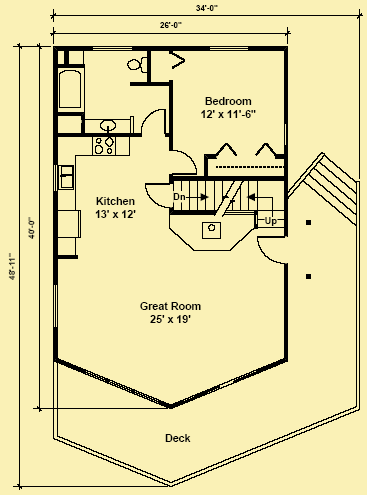door: (255, 234, 286, 268), (136, 107, 167, 138), (141, 180, 172, 208), (168, 149, 199, 175)
large_sink: (122, 54, 149, 76)
small_sink: (82, 118, 132, 133)
stairs: (166, 177, 282, 228), (301, 152, 355, 226)
tub: (53, 66, 85, 114)
twin_sink: (58, 163, 76, 191)
windows: (49, 282, 61, 329), (86, 42, 132, 54), (204, 42, 249, 54)
